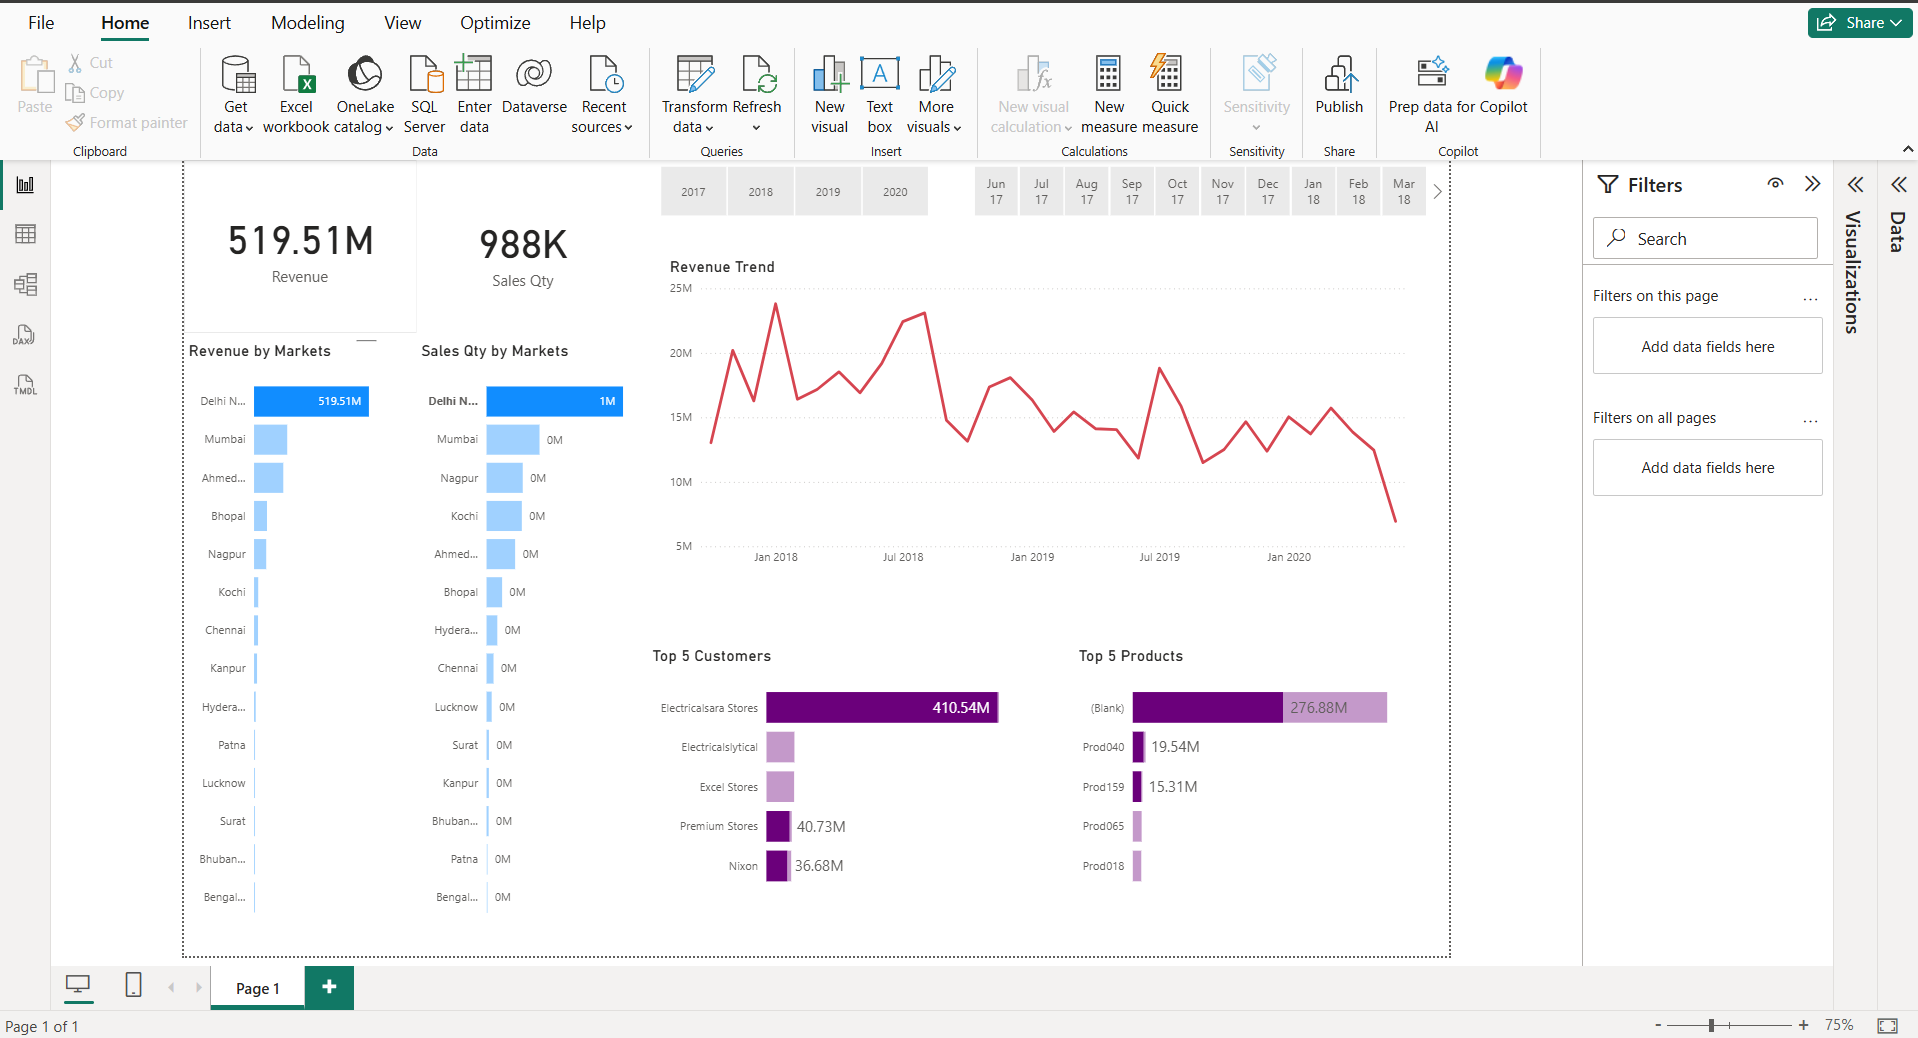

This screenshot's page, from the dashboard's own definition file:
{"tool":"powerbi","page":{"name":"Page 1","canvas":[1350,850],"ordinal":0},"visuals":[{"type":"card","fields":{"Values":["BaseMeasures (2).Revenue"]},"box":[0,0,247.9,184.6],"z":0},{"type":"card","fields":{"Values":["BaseMeasures (2).Sales Qty"]},"box":[247.9,0,227.9,193.1],"z":1000},{"type":"barChart","title":"Revenue by Markets","fields":{"Y":["BaseMeasures (2).Revenue"],"Category":["sales markets.markets_name"]},"box":[0,193.1,247.9,631.9],"z":2000},{"type":"barChart","title":"Sales Qty by Markets","fields":{"Y":["BaseMeasures (2).Sales Qty"],"Category":["sales markets.markets_name"]},"box":[247.9,193.1,247.9,631.9],"z":3000},{"type":"slicer","fields":{"Values":["sales date.year"]},"box":[483.2,0,335.5,66.5],"z":4000},{"type":"slicer","fields":{"Values":["sales date.cy_date"]},"box":[818.6,0,531.7,66.5],"z":5000},{"type":"barChart","title":"Top 5 Customers","fields":{"Y":["BaseMeasures (2).Revenue"],"Category":["sales customers.custmer_name"]},"box":[495.8,519,446.2,274.3],"z":6000},{"type":"barChart","title":"Top 5 Products","fields":{"Y":["BaseMeasures (2).Revenue"],"Category":["sales products.product_code"]},"box":[950.5,519,399.8,274.3],"z":7000},{"type":"lineChart","title":"Revenue Trend","fields":{"Y":["BaseMeasures (2).Revenue"],"Category":["sales date.cy_date"]},"box":[513.8,104.4,809.1,338.6],"z":8000}]}

Visuals, with their boxes on the page's 1350x850 design canvas (x1, y1, x2, y2). These are canvas units, not pixel positions in the 1918x1038 screenshot, which may show the page scaled, cropped or inside an application window:
card - BaseMeasures (2).Revenue: 0, 0, 248, 185
card - BaseMeasures (2).Sales Qty: 248, 0, 476, 193
"Revenue by Markets" barChart: 0, 193, 248, 825
"Sales Qty by Markets" barChart: 248, 193, 496, 825
slicer - sales date.year: 483, 0, 819, 66
slicer - sales date.cy_date: 819, 0, 1350, 66
"Top 5 Customers" barChart: 496, 519, 942, 793
"Top 5 Products" barChart: 950, 519, 1350, 793
"Revenue Trend" lineChart: 514, 104, 1323, 443
